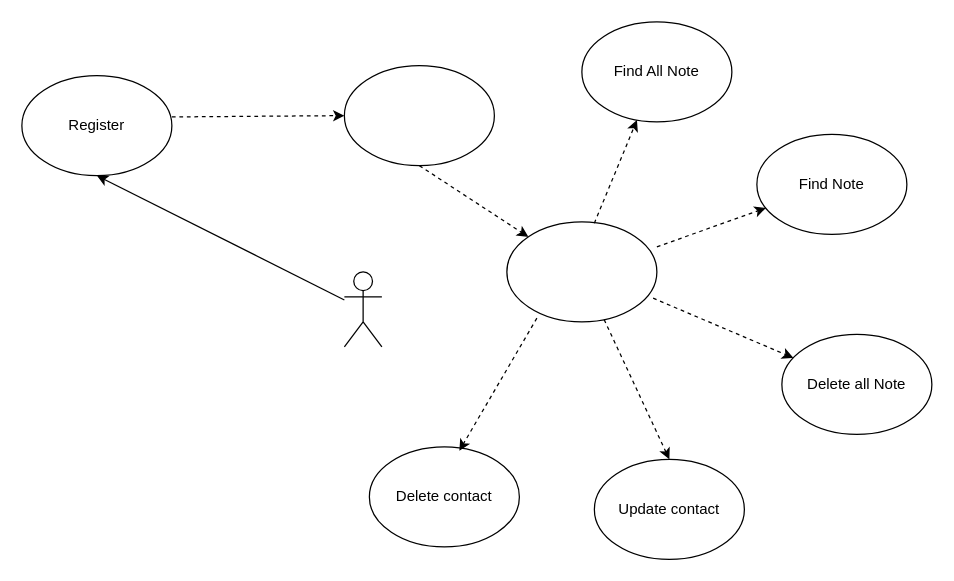
The diagram is 954 pixels wide and 581 high, and some of its shapes have lost their labels. Each missing label, with the box of its shape:
CreateNote: (506, 221, 657, 322)
Login: (343, 64, 494, 166)
User: (343, 271, 382, 347)
